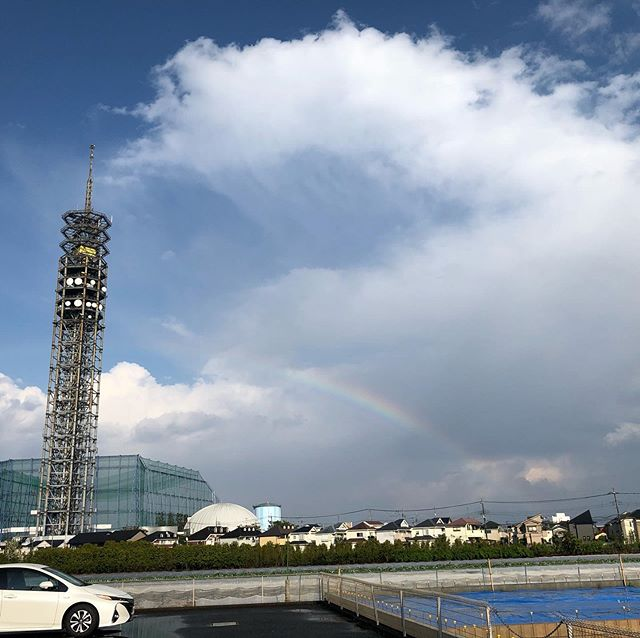building: (33, 207, 124, 526), (1, 462, 219, 547)
car: (1, 562, 151, 634)
sky: (27, 1, 640, 466)
